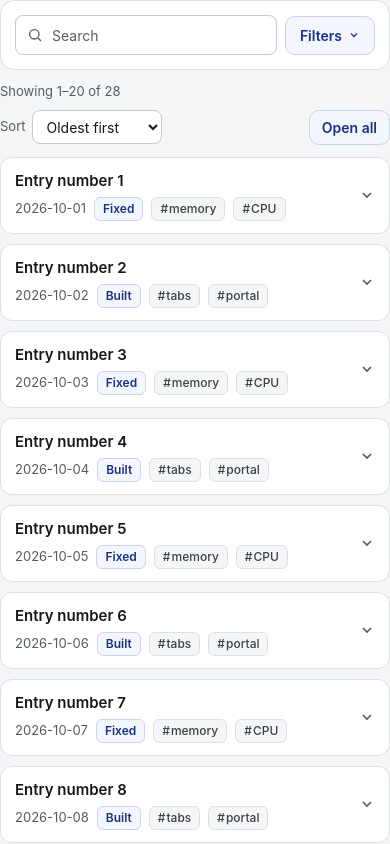
Scenario: Browse › the Filters button says how many filters are on and opens the filters
Click the button "Filters" at (330, 35), box [285,16,375,54]
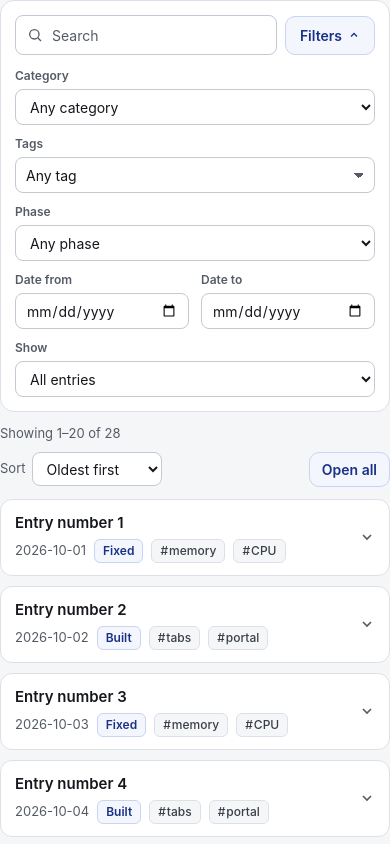
Select "Fixed" in the dropdown labelled "Category" at (195, 107), box [15,89,375,125]
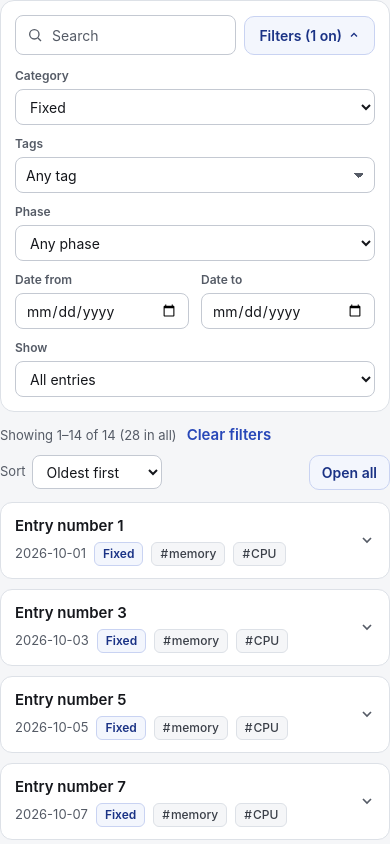
Result: the button "Filters (1 on)" is shown at [244,16,375,54]
